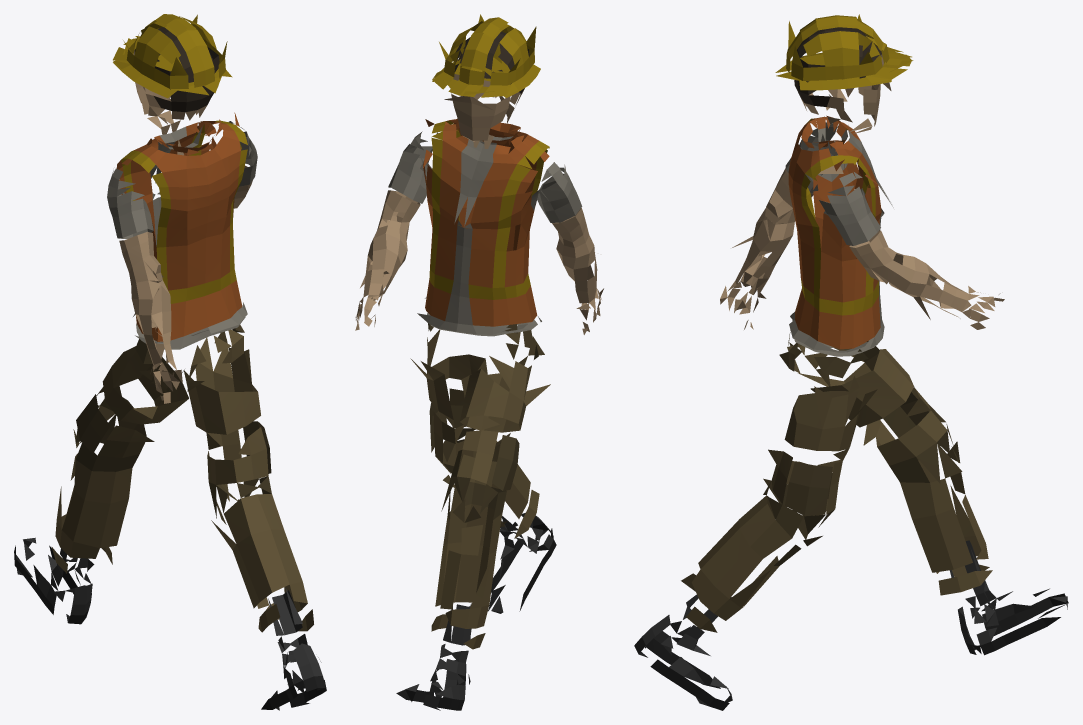
Rendered from worker_w0.fbx.
3 views of the same model, side by side, from view 1: azimuth 30°, elevation 25°; view 2: azimuth 150°, elevation 25°; view 3: azimuth 270°, elevation 25° (orthographic). The views are drawn at different scales.
Parts seen in each view (by area): view 1: Worker_Feet; view 2: Worker_Feet; view 3: Worker_Feet.
Boxes of the visible parts, x1,y1,x2,y2 form: Worker_Feet: [14, 14, 326, 710]; Worker_Feet: [355, 14, 603, 710]; Worker_Feet: [634, 14, 1068, 710].
Size of the model in its own units: 0.2553 by 0.9871 by 0.5842.
